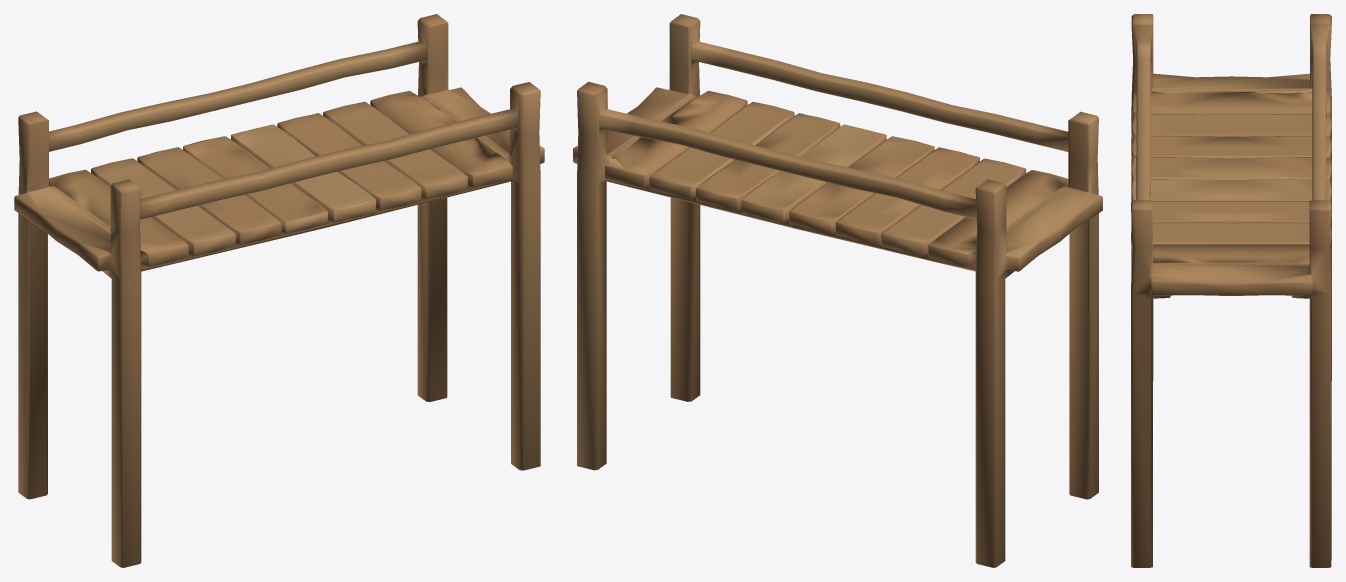
The model's file is bridge.glb.
The picture shows the model from 3 angles, left to right: view 1: azimuth 30°, elevation 25°; view 2: azimuth 150°, elevation 25°; view 3: azimuth 270°, elevation 25°; orthographic projection. The views are drawn at different scales.
Visible parts, largest first — view 1: material.001; view 2: material.001; view 3: material.001.
Boxes of the visible parts, <box> form: material.001: <box>14,14,544,567</box>; material.001: <box>573,14,1102,567</box>; material.001: <box>1131,14,1331,567</box>.
Bounding box in the file's own units: 4.28 × 3.44 × 1.74.
Materials: 1 (1 with a texture image).
